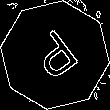P_SE: (25, 24, 85, 86)
